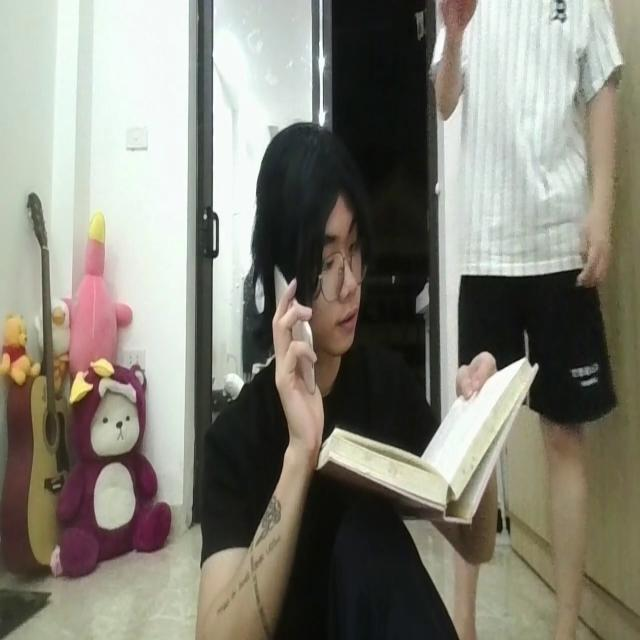book: (316, 351, 540, 532)
extra_person: (427, 0, 624, 640)
phone: (271, 252, 323, 404)
student: (198, 120, 502, 640)
